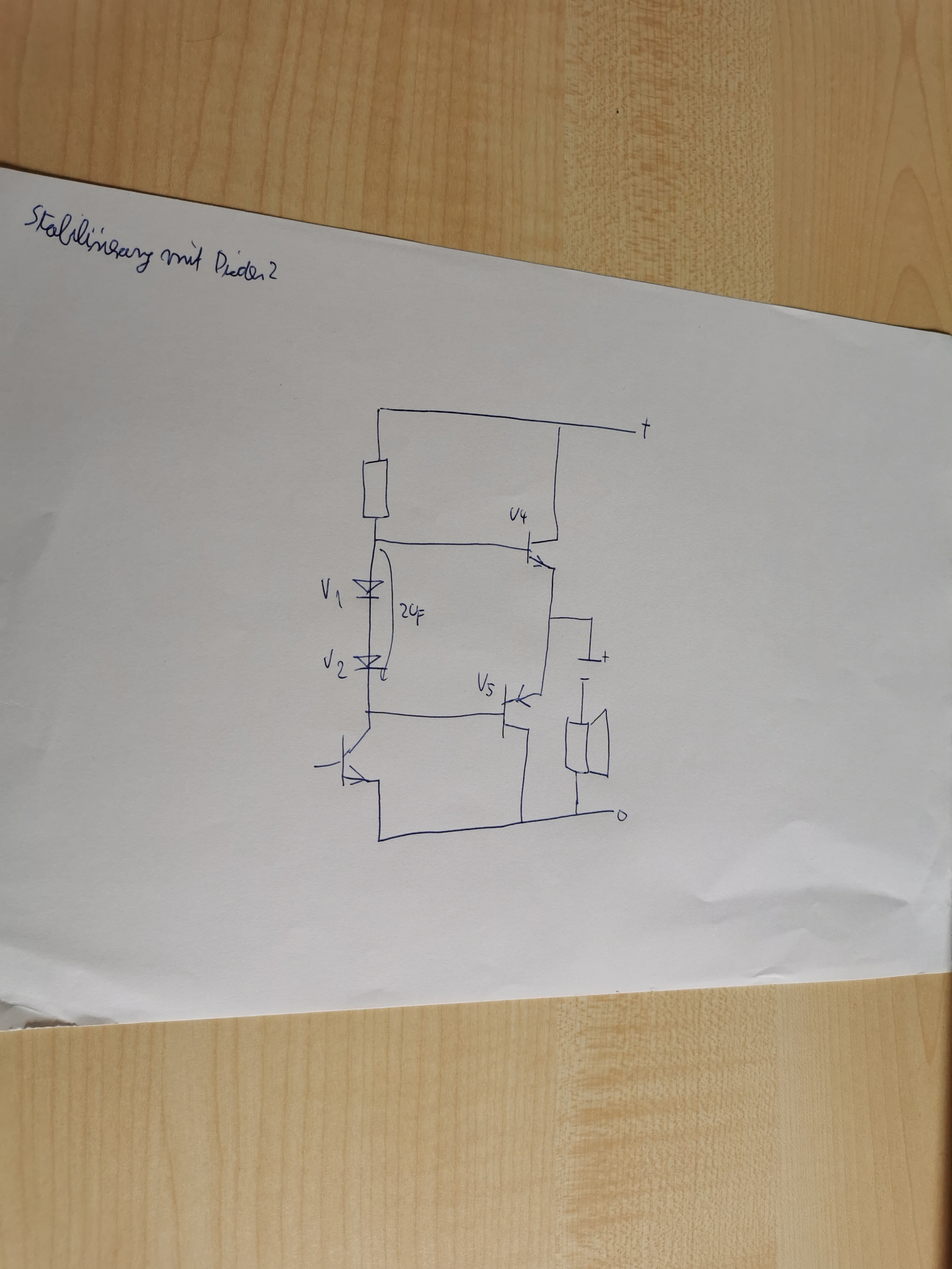capacitor.polarized: (576, 649, 610, 683)
diode: (350, 577, 387, 601), (351, 653, 388, 672)
explanatory: (376, 548, 396, 682)
junction: (553, 420, 566, 432), (373, 404, 385, 415), (516, 816, 527, 827), (374, 835, 385, 845), (572, 808, 582, 819), (363, 707, 373, 717), (545, 613, 555, 623), (371, 535, 381, 545), (587, 615, 596, 623)
resistor: (359, 456, 390, 521)
speaker: (561, 707, 613, 782)
terminal: (309, 761, 319, 771), (631, 428, 640, 438), (610, 808, 616, 814)
text: (18, 203, 283, 289), (318, 576, 346, 611), (322, 647, 348, 679), (398, 601, 425, 626), (475, 671, 496, 697), (509, 505, 528, 525), (640, 416, 651, 441), (617, 809, 627, 822)
transistor.bjt: (333, 726, 378, 789), (496, 684, 538, 738), (525, 532, 560, 574)
